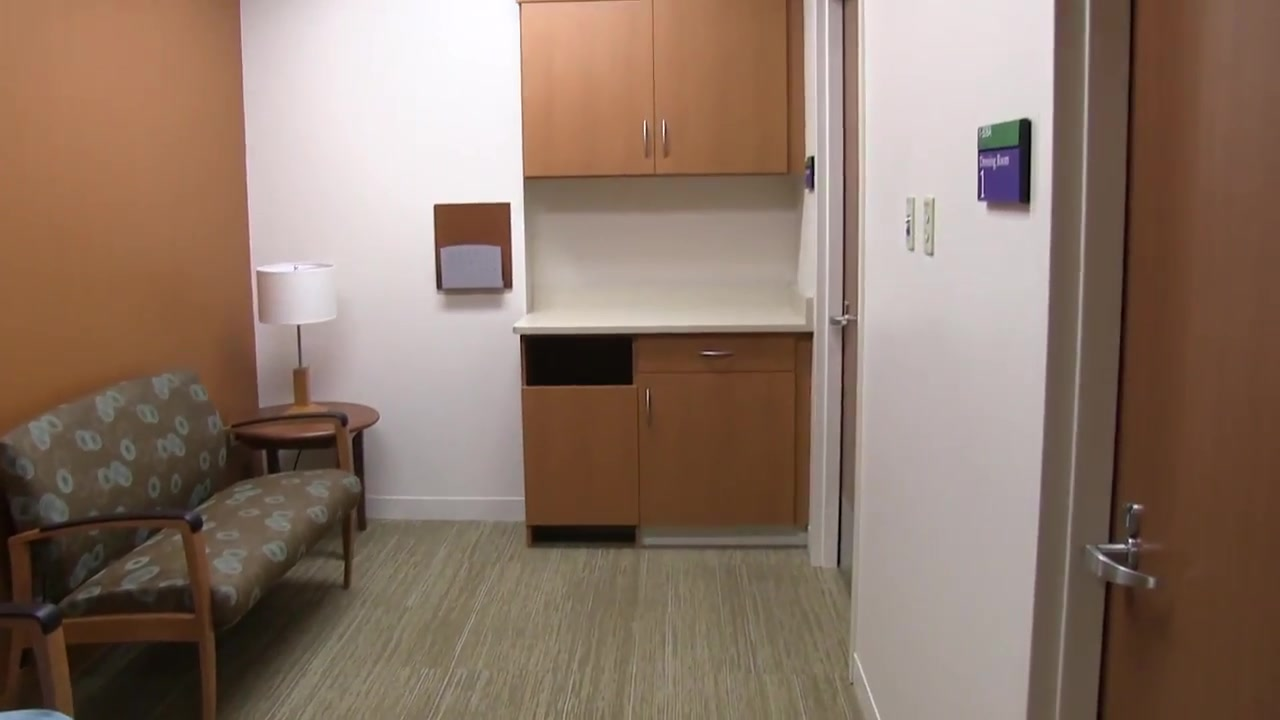cabinet: (518, 1, 801, 178)
counter: (521, 302, 807, 546)
door_handle: (1080, 497, 1162, 598), (831, 297, 855, 328)
handle: (696, 346, 735, 361), (641, 384, 655, 424), (659, 118, 670, 160), (641, 118, 650, 161)
sofa: (1, 367, 364, 720)
table: (232, 400, 381, 533)
